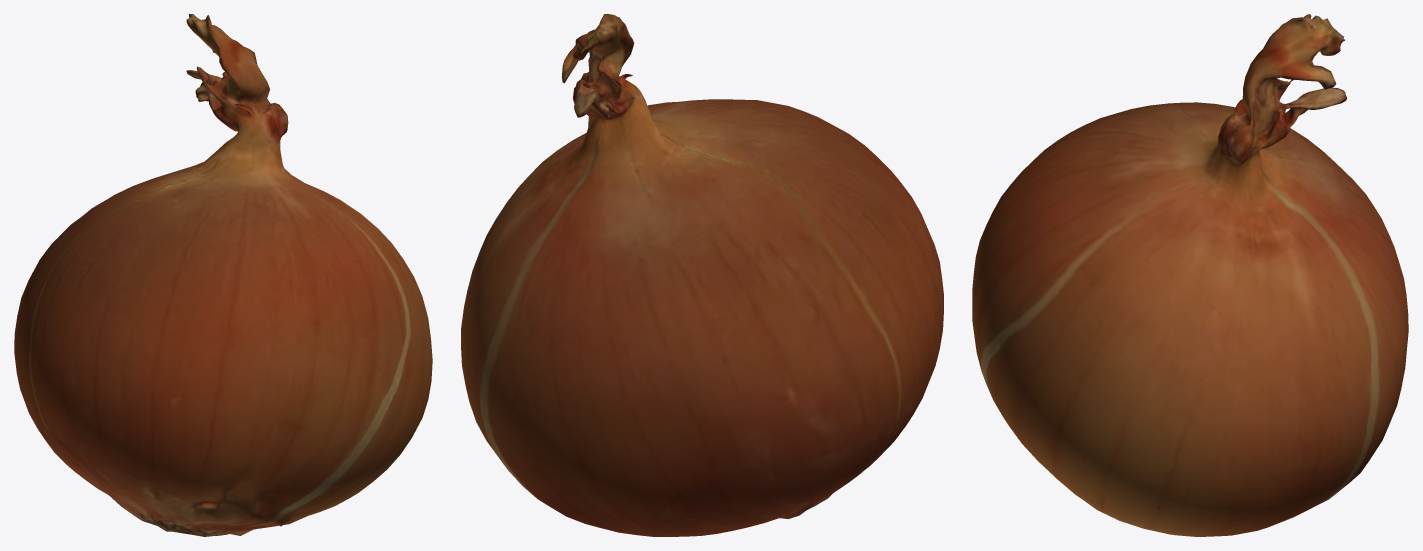
File: yellow_onion.glb
The picture shows the model from 3 angles, left to right: view 1: azimuth 30°, elevation 25°; view 2: azimuth 150°, elevation 25°; view 3: azimuth 270°, elevation 25°; orthographic projection. The views are drawn at different scales.
Visible parts, largest first — view 1: yellow_onion; view 2: yellow_onion; view 3: yellow_onion.
Boxes of the visible parts, x1,y1,x2,y2 form: yellow_onion: [14, 14, 432, 536]; yellow_onion: [461, 14, 943, 536]; yellow_onion: [972, 14, 1408, 536].
Size of the model in its own units: 0.0725 by 0.0864 by 0.0686.
1 material, 1 textured.
